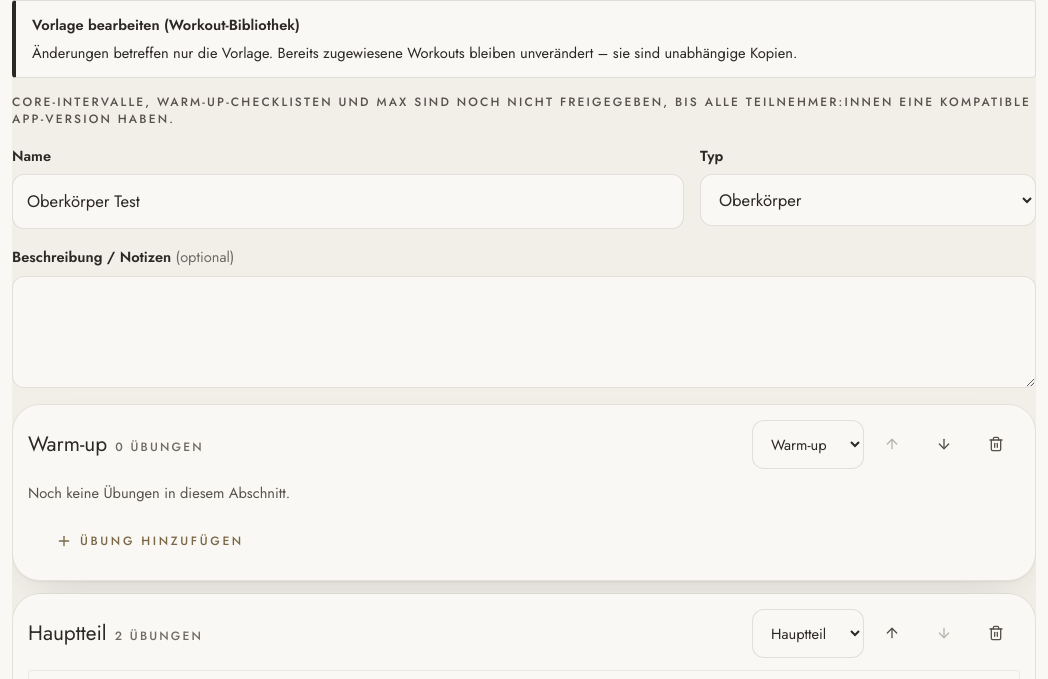
WorkoutEditor — fields per execution type › Sprint 7.5: a network failure in the exercise search shows an error and "Erneut versuchen" works
Click the button "Übung hinzufügen".
click(150, 541)  # box [28,517,272,565]
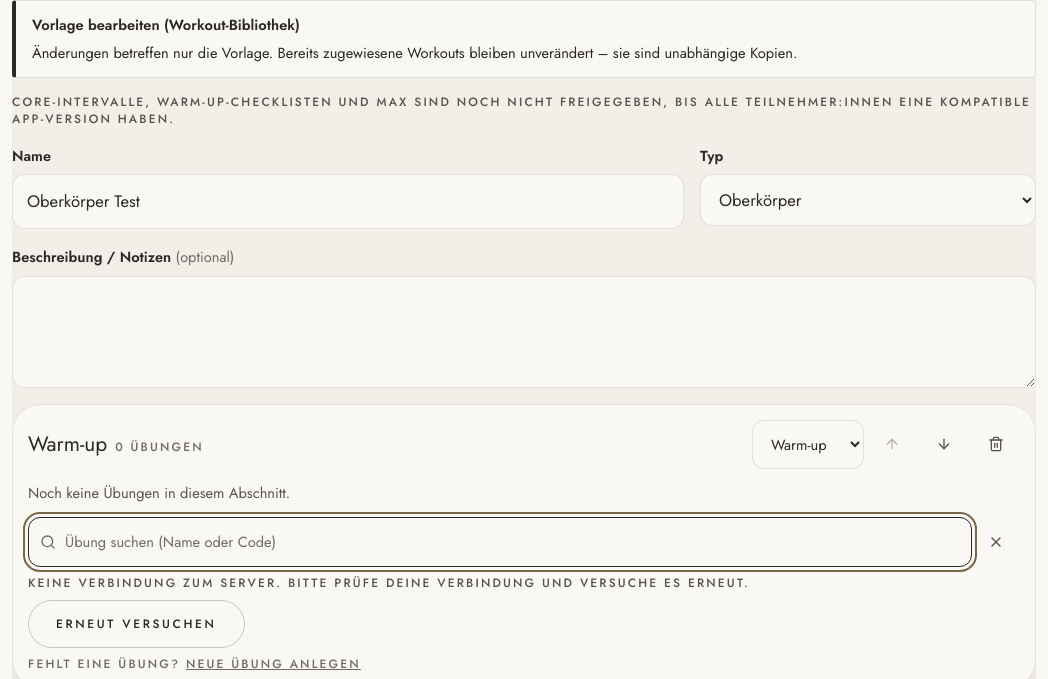
Now the text "Keine Verbindung zum Server" is shown, box [28,574,750,592]
Click the button "Erneut versuchen".
click(136, 624)  # box [28,600,244,648]
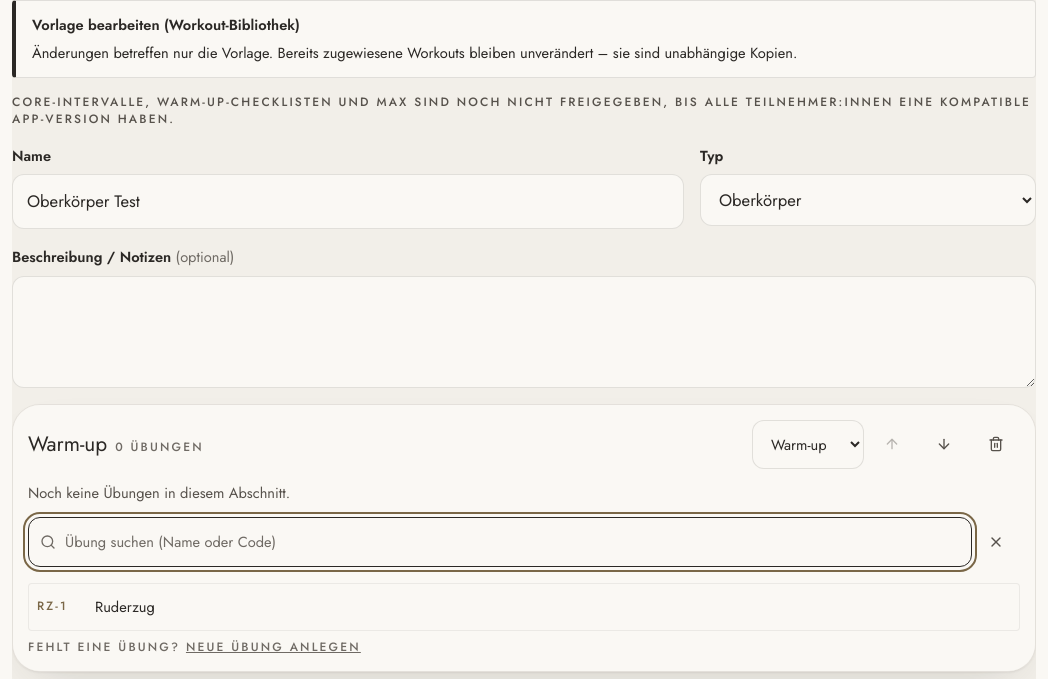
Now the button "RZ-1 Ruderzug" is shown, box [28,583,1020,631]
Now the text "Keine Verbindung zum Server" is gone
